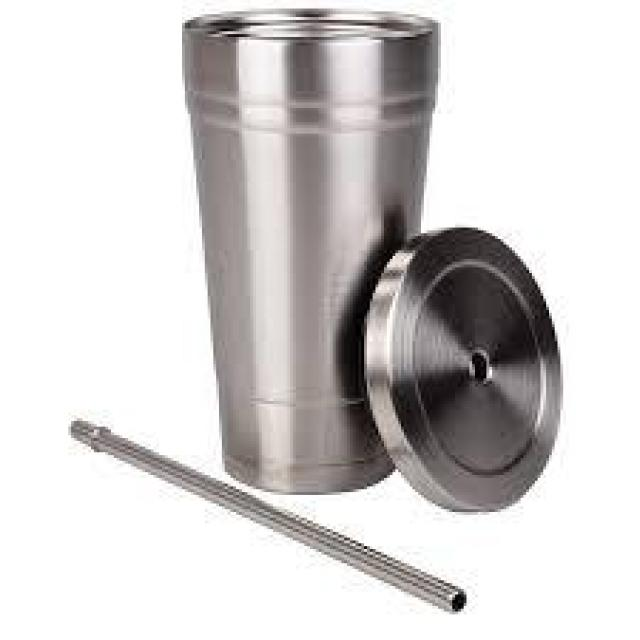bottle: (176, 8, 455, 500)
